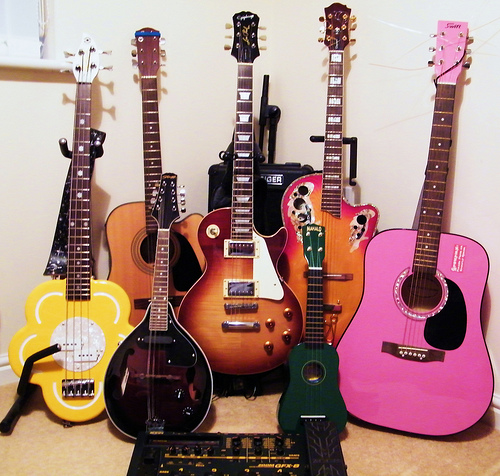guitar: (338, 14, 497, 436), (102, 25, 212, 303)
